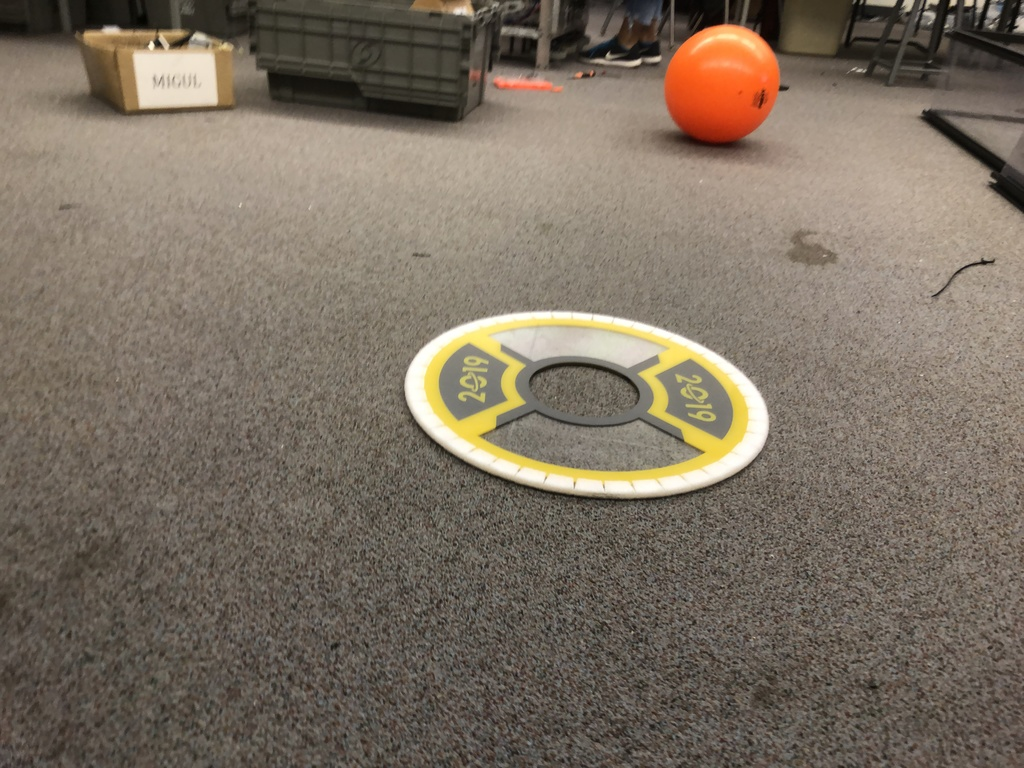hatch_panel: (401, 299, 781, 511)
